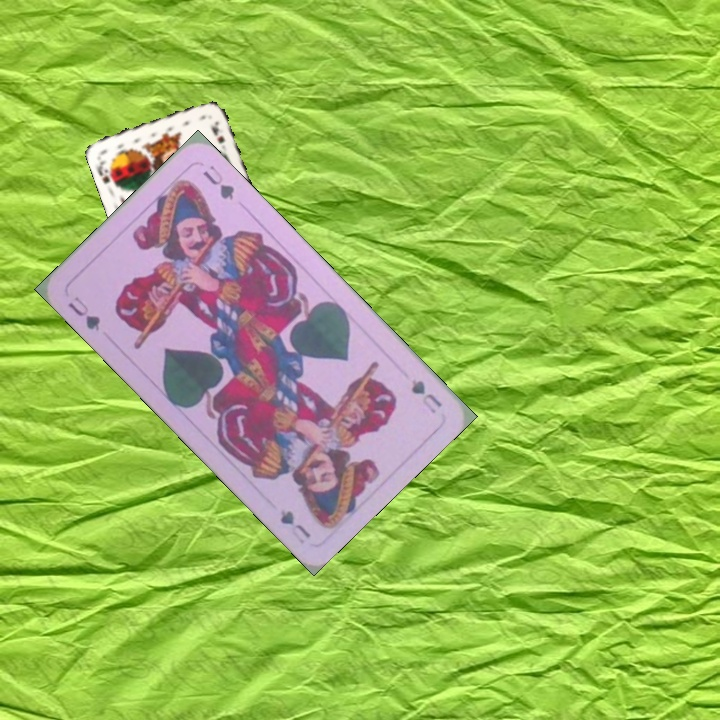GU: (64, 292, 103, 334), (406, 375, 445, 417)
SK: (93, 156, 120, 189)
